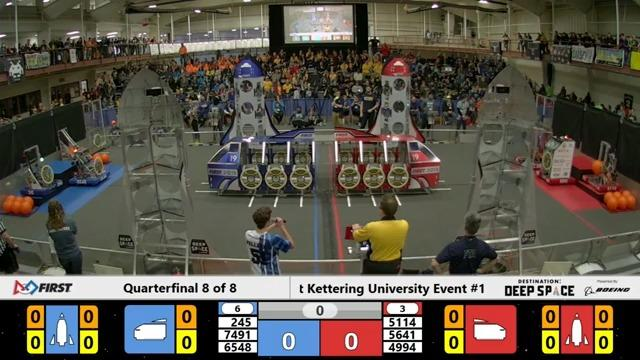robot: (579, 139, 626, 192), (533, 134, 578, 189), (18, 144, 65, 195), (513, 122, 558, 167), (67, 154, 111, 187), (55, 124, 92, 163)
